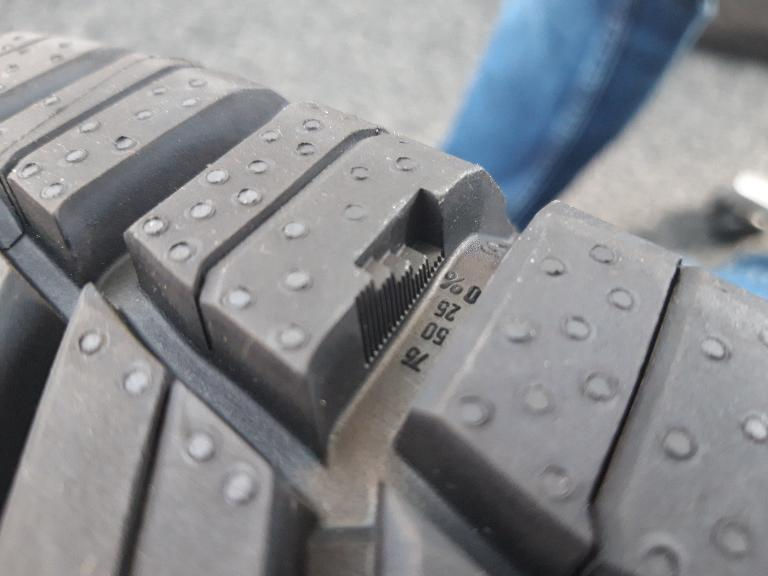temoin:100: (350, 186, 447, 368)
